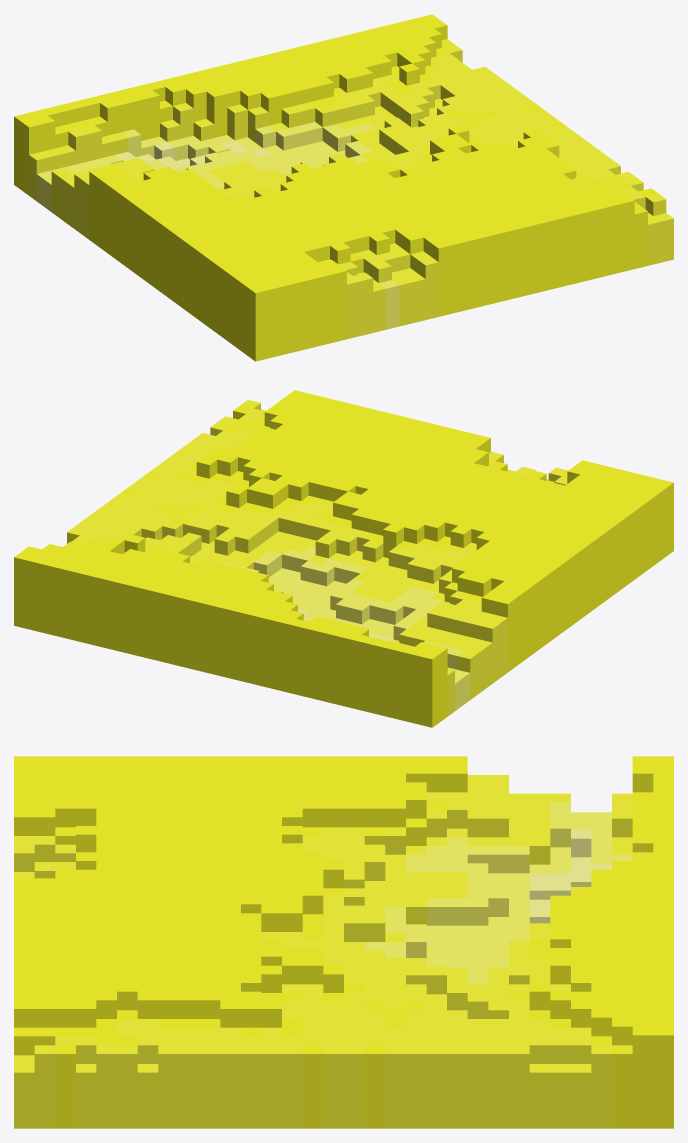
The model's file is Destert Map-13.obj.
The picture shows the model from 3 angles, top to bottom: view 1: azimuth 30°, elevation 25°; view 2: azimuth 150°, elevation 25°; view 3: azimuth 270°, elevation 25°; orthographic projection. The views are drawn at different scales.
Bounding box in the file's own units: 3.2 × 0.5 × 3.2.
Materials: 1 (1 with a texture image).
